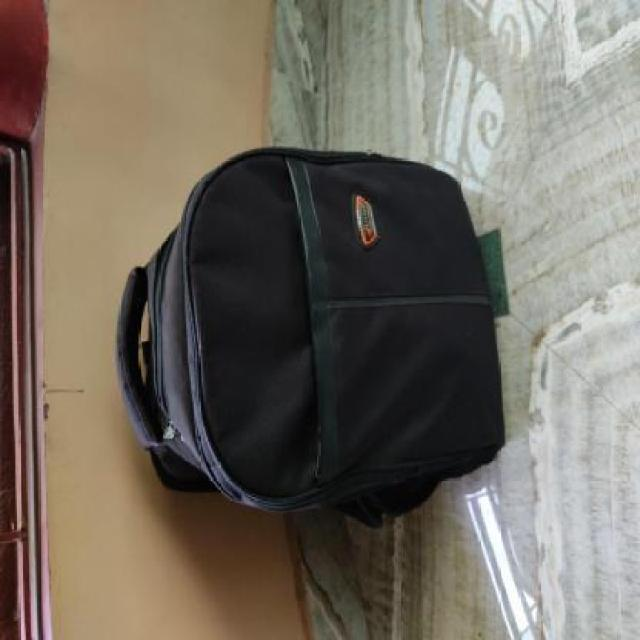backpack: (110, 141, 512, 537)
